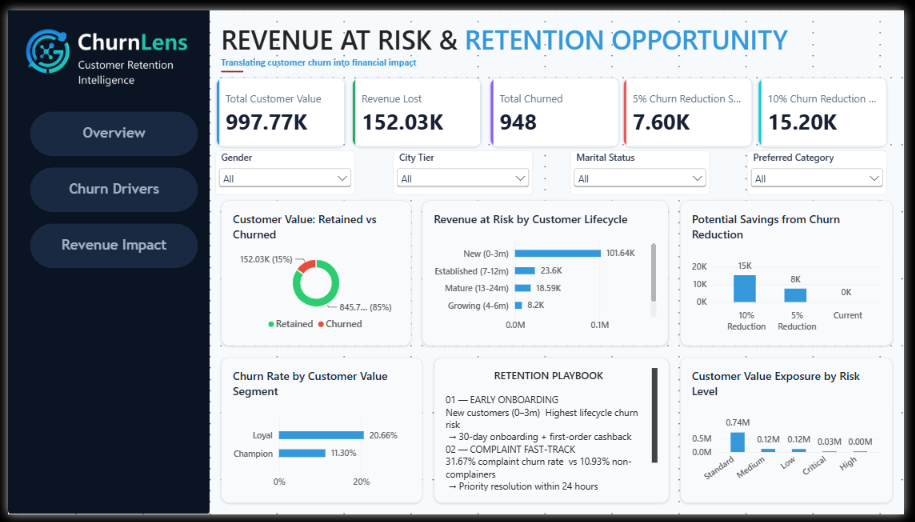

Layout of this report page (visuals, bound fields, positions):
{"tool":"powerbi","page":{"name":"Revenue Impact","canvas":[1280,720],"ordinal":2},"visuals":[{"type":"cardVisual","fields":{"Data":["ChurnData.Total Customer Value"]},"box":[297.8,96,185,100],"z":0},{"type":"shape","box":[0,-368,288,1088],"z":1000},{"type":"image","box":[0,0,288,128],"z":2000},{"type":"cardVisual","fields":{"Data":["ChurnData.5% Churn Reduction Savings"]},"box":[878.4,96,185,100],"z":3000},{"type":"actionButton","box":[32,144,240,64],"z":4000},{"type":"actionButton","box":[32,224,240,64],"z":5000},{"type":"cardVisual","fields":{"Data":["ChurnData.Revenue Lost"]},"box":[491.3,96,185,100],"z":6000},{"type":"actionButton","box":[32,304,240,64],"z":7000},{"type":"textbox","box":[304,16,896,80],"z":8000},{"type":"cardVisual","fields":{"Data":["ChurnData.10% Churn Reduction Savings"]},"box":[1072,96,185,100],"z":9000},{"type":"shape","box":[304,72,32,32],"z":10000},{"type":"slicer","fields":{"Values":["ChurnData.Gender"]},"box":[296,200,200,64],"z":11000},{"type":"slicer","fields":{"Values":["ChurnData.CityTier"]},"box":[549.3,200,200,64],"z":12000},{"type":"slicer","fields":{"Values":["ChurnData.MaritalStatus"]},"box":[802.7,200,200,64],"z":13000},{"type":"slicer","fields":{"Values":["ChurnData.PreferedOrderCat"]},"box":[1056,200,200,64],"z":14000},{"type":"donutChart","title":"Customer Value: Retained vs Churned","fields":{"Category":["ChurnData.ChurnLabel"],"Y":["Sum(ChurnData.CashbackAmount)"]},"box":[304,272,272,208],"z":15000},{"type":"clusteredBarChart","title":"Revenue at Risk by Customer Lifecycle","fields":{"Category":["ChurnData.Tenure Cohort"],"Y":["ChurnData.Revenue at Risk"]},"box":[592,272,352,208],"z":16000},{"type":"clusteredColumnChart","title":"Potential Savings from Churn Reduction","fields":{"Category":["Savings Scenario.Scenario"],"Y":["Savings Scenario.Scenario Savings"]},"box":[960,272,304,208],"z":17000},{"type":"clusteredBarChart","title":"Churn Rate by Customer Value Segment","fields":{"Category":["ChurnData.Customer Value Segment"],"Y":["ChurnData.Churn Rate %"]},"box":[304,496,288,208],"z":18000},{"type":"clusteredColumnChart","title":"Customer Value Exposure by Risk Level","fields":{"Category":["ChurnData.Risk Level"],"Y":["ChurnData.Total Customer Value"]},"box":[960,496,304,208],"z":19000},{"type":"textbox","box":[608,496,336,208],"z":20000},{"type":"cardVisual","fields":{"Data":["ChurnData.Total Churned"]},"box":[688,96,185,100],"z":21000}]}

Visuals, with their boxes in screenshot pixels (x1, y1, x2, y2), scaled from the page's 1280x720 canvas onto the 915x522 screenshot:
cardVisual - ChurnData.Total Customer Value: [left=213, top=70, right=345, bottom=142]
shape: [left=0, top=0, right=206, bottom=521]
image: [left=0, top=0, right=206, bottom=93]
cardVisual - ChurnData.5% Churn Reduction Savings: [left=628, top=70, right=760, bottom=142]
actionButton: [left=23, top=104, right=194, bottom=151]
actionButton: [left=23, top=162, right=194, bottom=209]
cardVisual - ChurnData.Revenue Lost: [left=351, top=70, right=483, bottom=142]
actionButton: [left=23, top=220, right=194, bottom=267]
textbox: [left=217, top=12, right=858, bottom=70]
cardVisual - ChurnData.10% Churn Reduction Savings: [left=766, top=70, right=899, bottom=142]
shape: [left=217, top=52, right=240, bottom=75]
slicer - ChurnData.Gender: [left=212, top=145, right=355, bottom=191]
slicer - ChurnData.CityTier: [left=393, top=145, right=536, bottom=191]
slicer - ChurnData.MaritalStatus: [left=574, top=145, right=717, bottom=191]
slicer - ChurnData.PreferedOrderCat: [left=755, top=145, right=898, bottom=191]
"Customer Value: Retained vs Churned" donutChart: [left=217, top=197, right=412, bottom=348]
"Revenue at Risk by Customer Lifecycle" clusteredBarChart: [left=423, top=197, right=675, bottom=348]
"Potential Savings from Churn Reduction" clusteredColumnChart: [left=686, top=197, right=904, bottom=348]
"Churn Rate by Customer Value Segment" clusteredBarChart: [left=217, top=360, right=423, bottom=510]
"Customer Value Exposure by Risk Level" clusteredColumnChart: [left=686, top=360, right=904, bottom=510]
textbox: [left=435, top=360, right=675, bottom=510]
cardVisual - ChurnData.Total Churned: [left=492, top=70, right=624, bottom=142]
